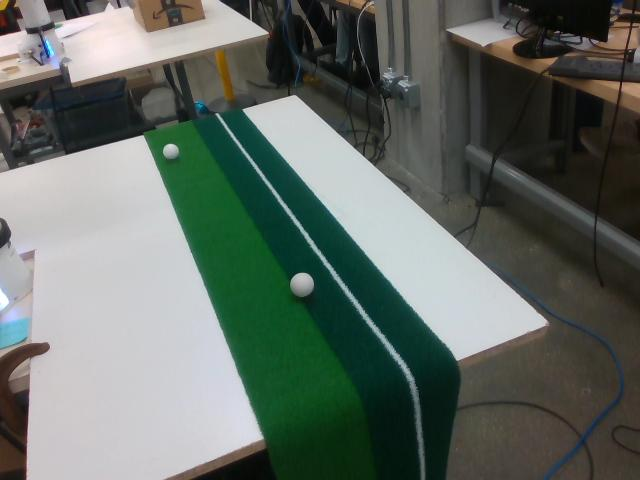golf_balls: (290, 273, 314, 297), (163, 144, 179, 159)
